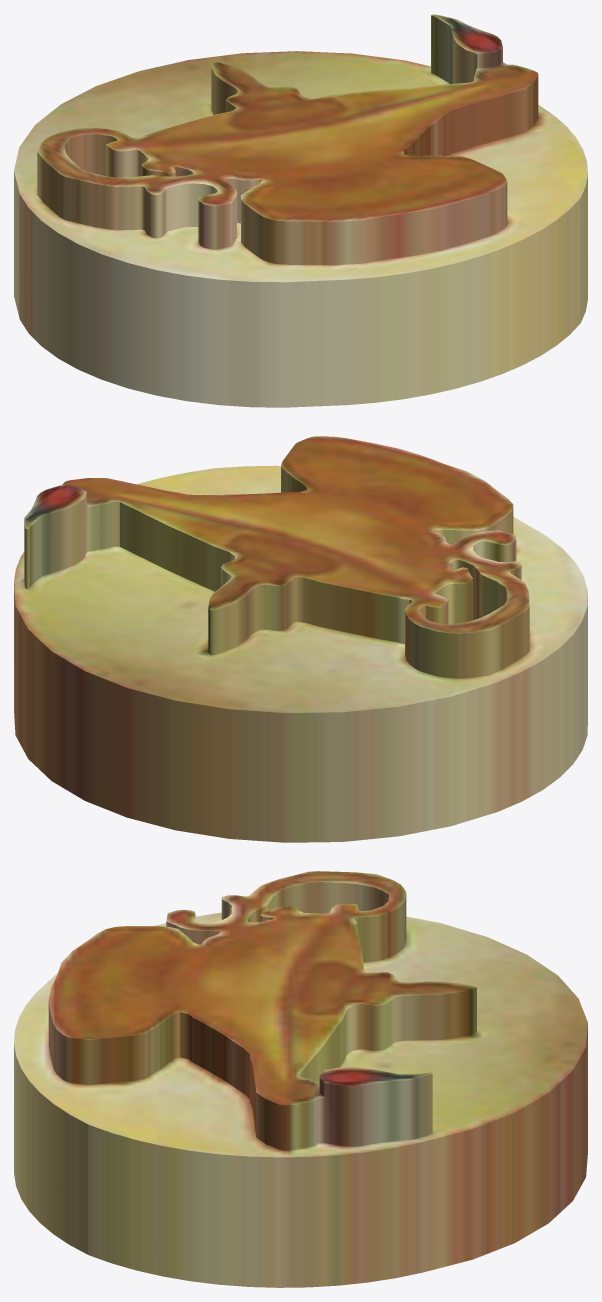
Rendered from el hombre y la ciencia 4.dae.
The picture shows the model from 3 angles, top to bottom: view 1: azimuth 30°, elevation 25°; view 2: azimuth 150°, elevation 25°; view 3: azimuth 270°, elevation 25°; orthographic projection. The views are drawn at different scales.
Parts seen in each view (by area): view 1: SketchUp (×3); view 2: SketchUp (×3); view 3: SketchUp (×3).
Part boxes in pixels (x1,y1,x2,y2): SketchUp (×3): (14,14,587,407); SketchUp (×3): (14,436,587,842); SketchUp (×3): (14,871,587,1287).
Size of the model in its own units: 13.35 by 12.96 by 4.75.
1 material, 1 textured.
